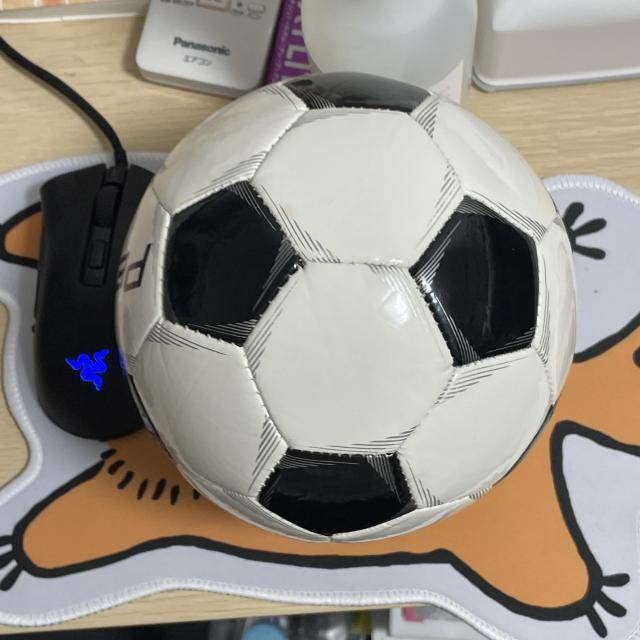ball: (111, 72, 575, 546)
